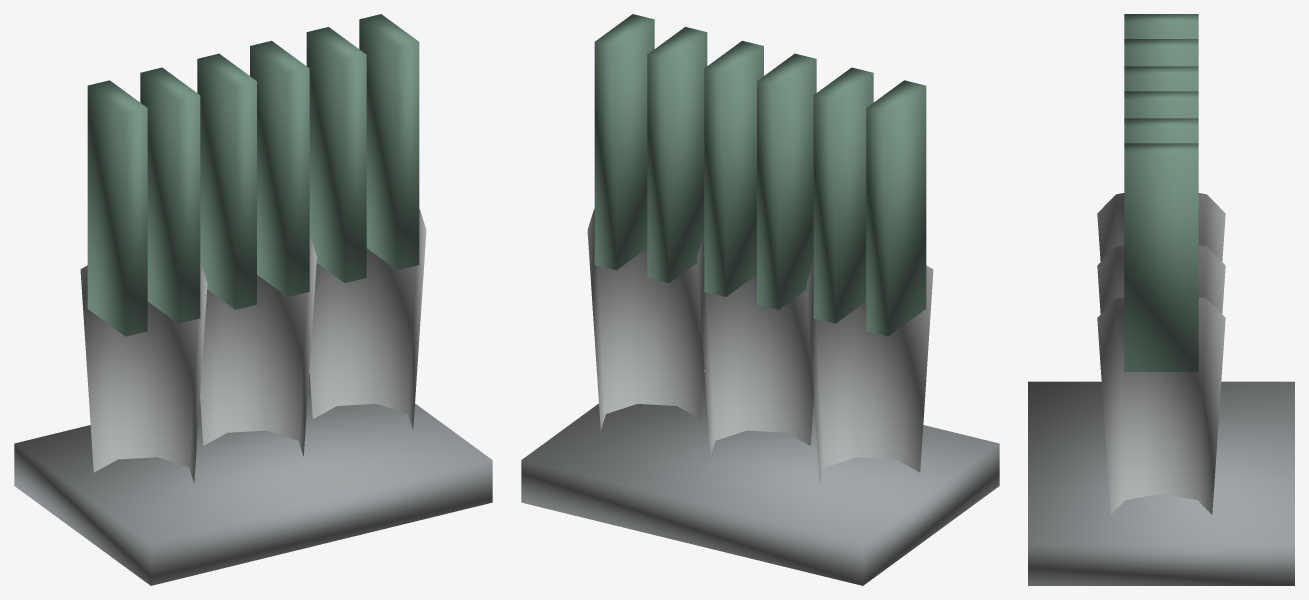
The model's file is standing_floral_display__tall.glb.
3 views of the same model, side by side, from view 1: azimuth 30°, elevation 25°; view 2: azimuth 150°, elevation 25°; view 3: azimuth 270°, elevation 25° (orthographic). The views are drawn at different scales.
Visible parts, largest first — view 1: world; view 2: world; view 3: world.
Boxes of the visible parts, box(x1,y1,x2,y2) form: world: box(14, 14, 492, 585); world: box(521, 14, 999, 585); world: box(1028, 14, 1294, 585).
Size of the model in its own units: 0.78 by 0.9396 by 0.54.
